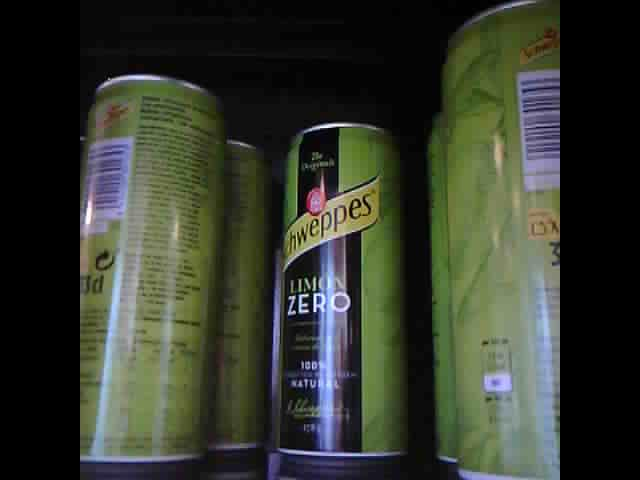schweppes: (425, 1, 561, 479), (80, 53, 220, 466), (271, 109, 406, 465), (207, 130, 270, 457)
